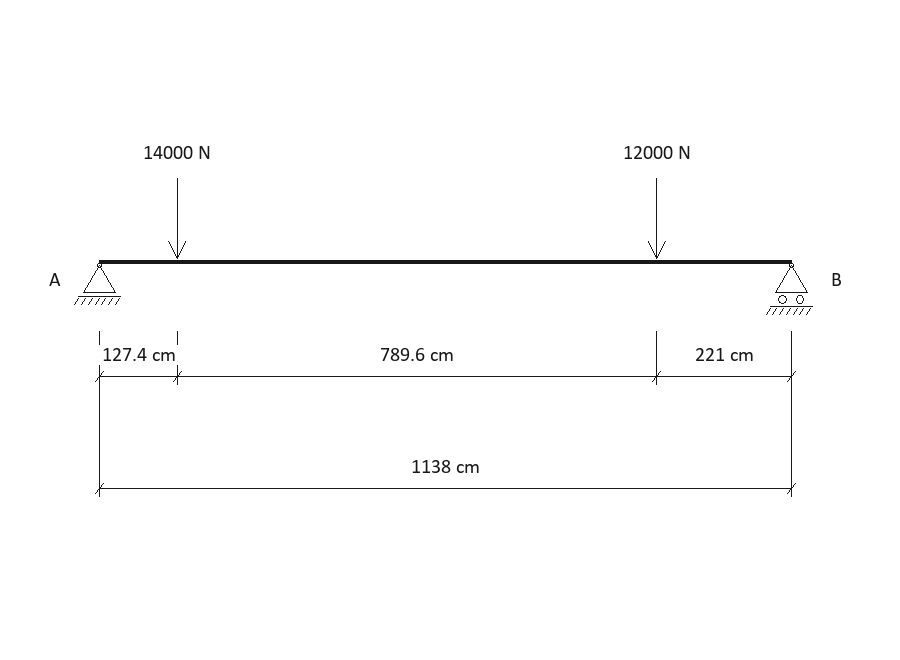pin_support: (74, 263, 121, 305)
point_load: (168, 178, 186, 259), (648, 178, 666, 259)
roller_support: (766, 263, 813, 315)
